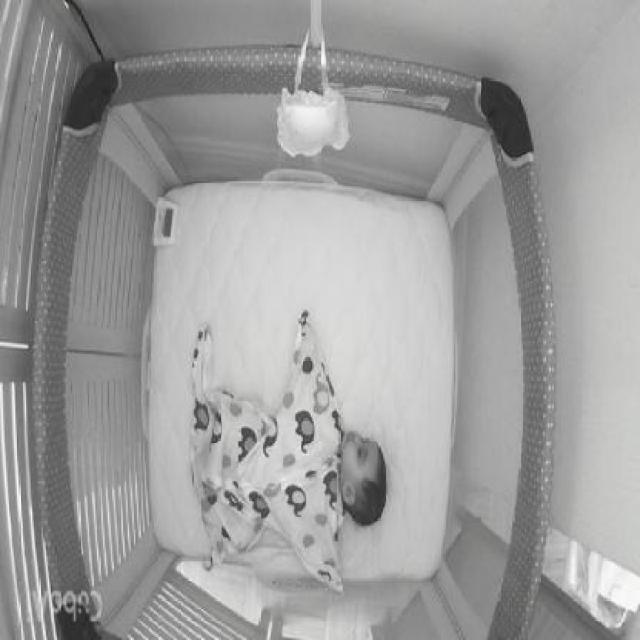baby: (189, 308, 388, 597)
